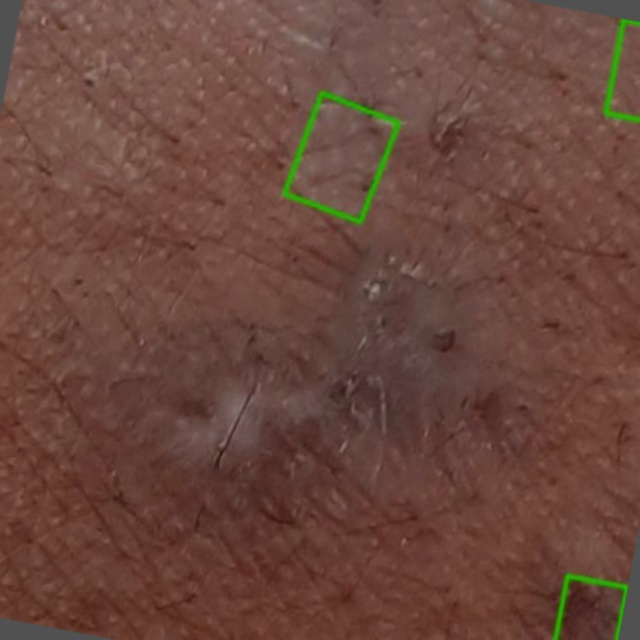Atopic Dermatitis: (283, 94, 397, 223)
